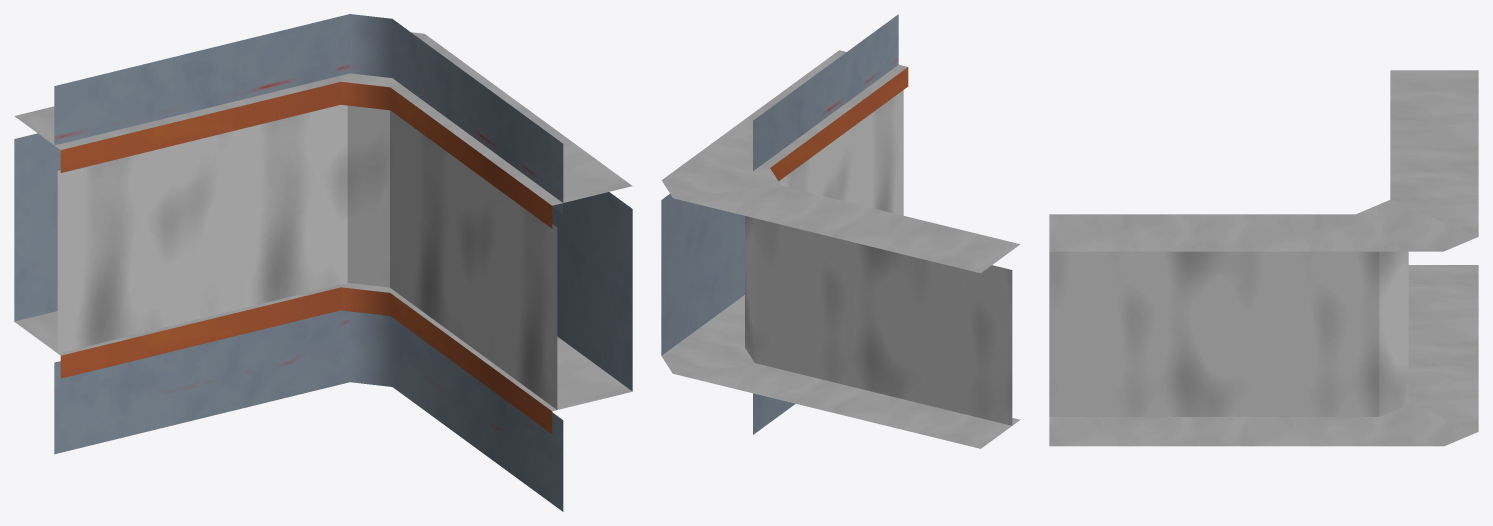
Rendered from Wall_WindowCorner_3_B_F.glb.
3 views of the same model, side by side, from view 1: azimuth 30°, elevation 25°; view 2: azimuth 150°, elevation 25°; view 3: azimuth 270°, elevation 25° (orthographic). The views are drawn at different scales.
Visible parts, largest first — view 1: Wall_WindowCorner_3_B_F; view 2: Wall_WindowCorner_3_B_F; view 3: Wall_WindowCorner_3_B_F.
Part boxes in pixels (x1,y1,x2,y2): Wall_WindowCorner_3_B_F: (14,14,632,511); Wall_WindowCorner_3_B_F: (661,14,1020,448); Wall_WindowCorner_3_B_F: (1049,70,1478,446).
Bounding box in the file's own units: 6.69 × 6 × 6.69.
Materials: 3 (3 with a texture image).
